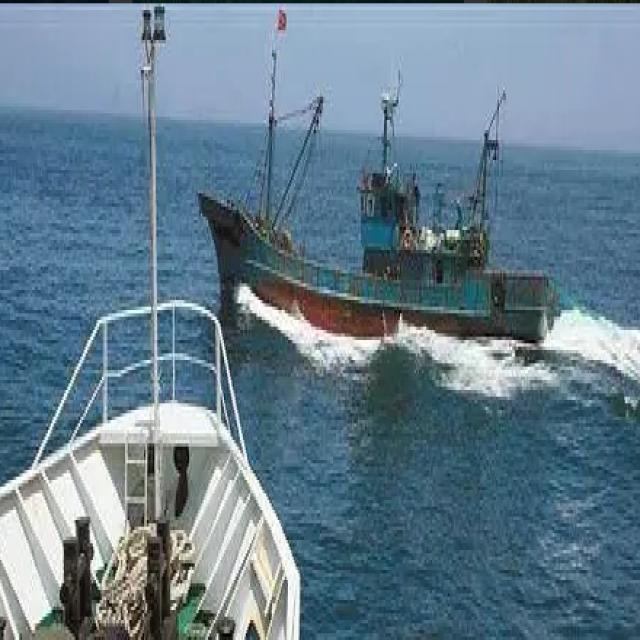fishing boat: (207, 16, 557, 333), (0, 290, 309, 640)
